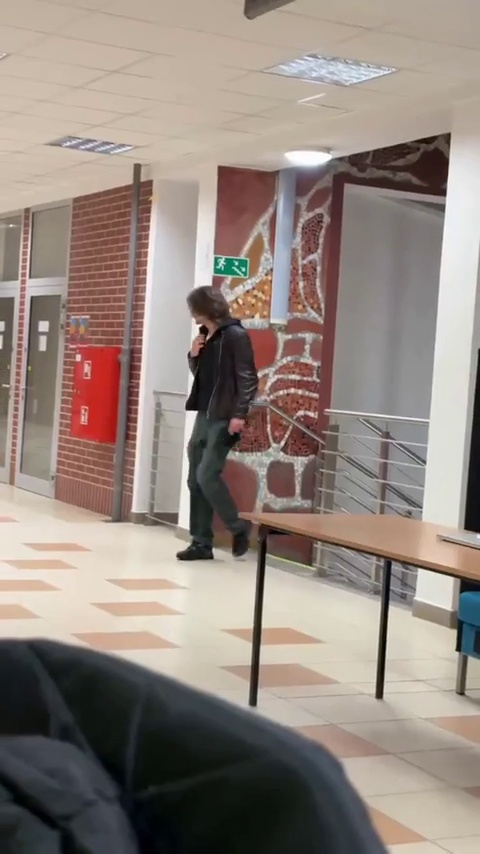no vest: (182, 285, 259, 559)
